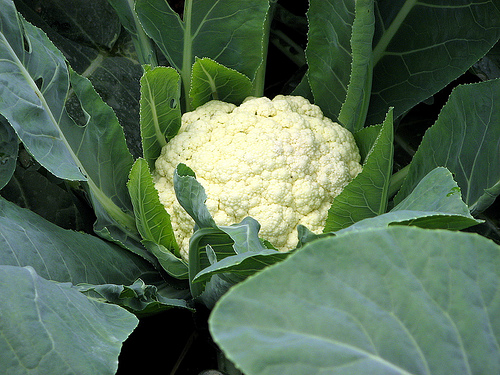cauliflower: (150, 93, 361, 256)
